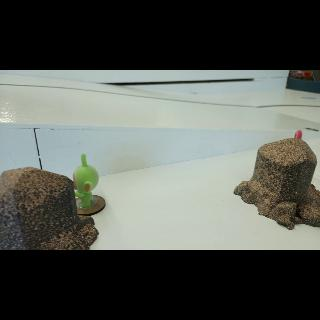teletubby: (73, 154, 99, 208), (294, 130, 302, 139)
